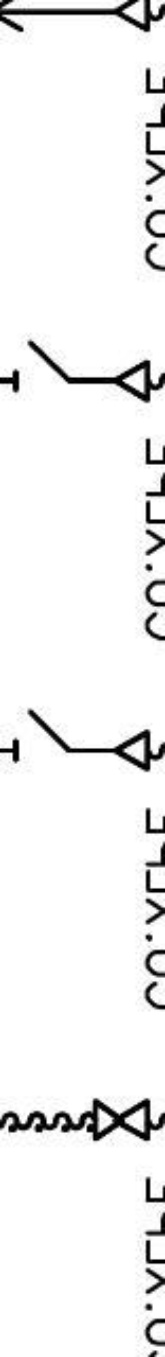terminator_single: (113, 357, 153, 405), (114, 727, 153, 775)
terminator_splicing_kits: (92, 1098, 152, 1143)
